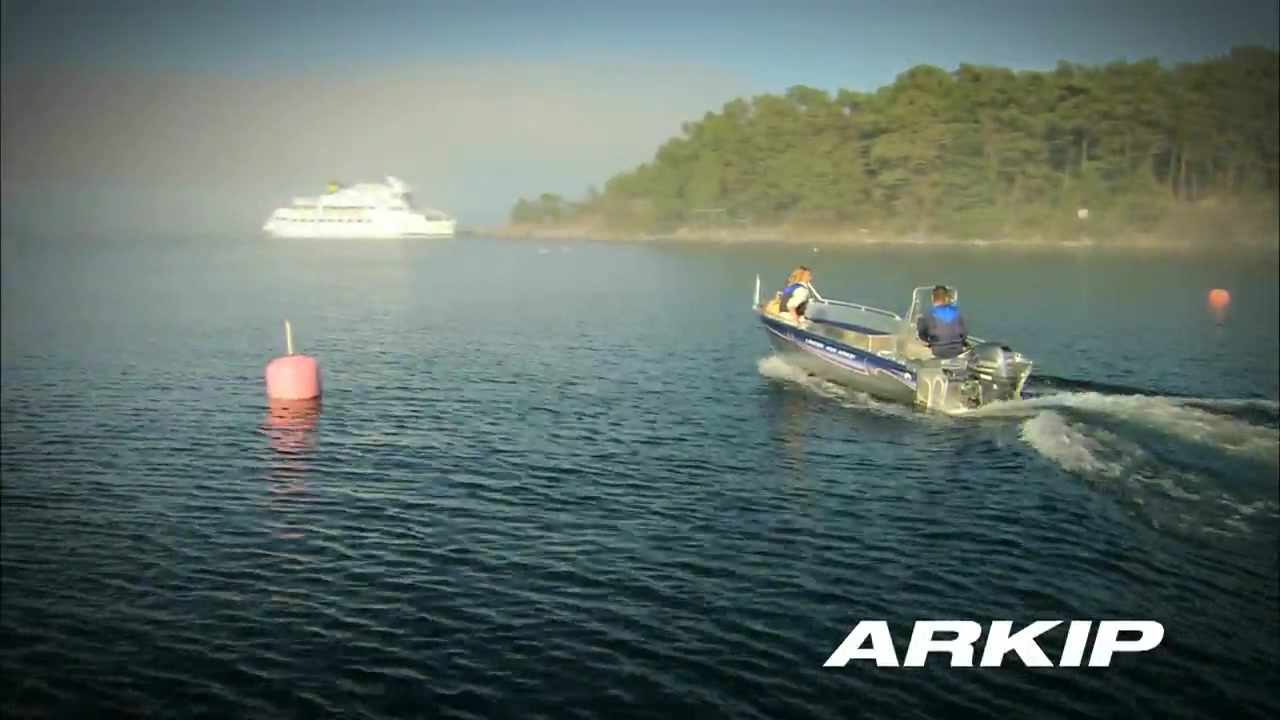boat: (751, 268, 1038, 418)
